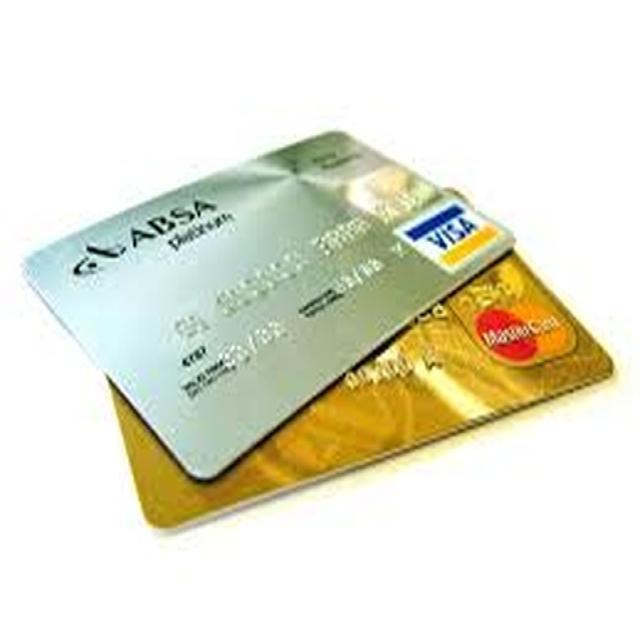card: (84, 169, 624, 542), (4, 116, 535, 493)
